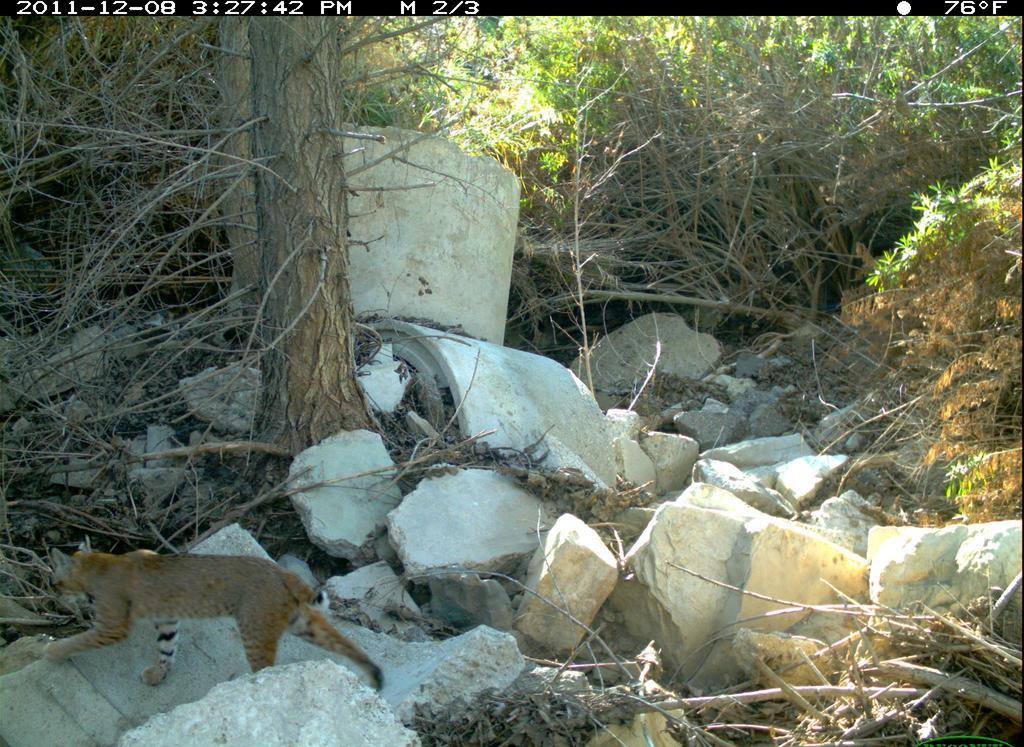bobcat: (33, 528, 393, 712)
